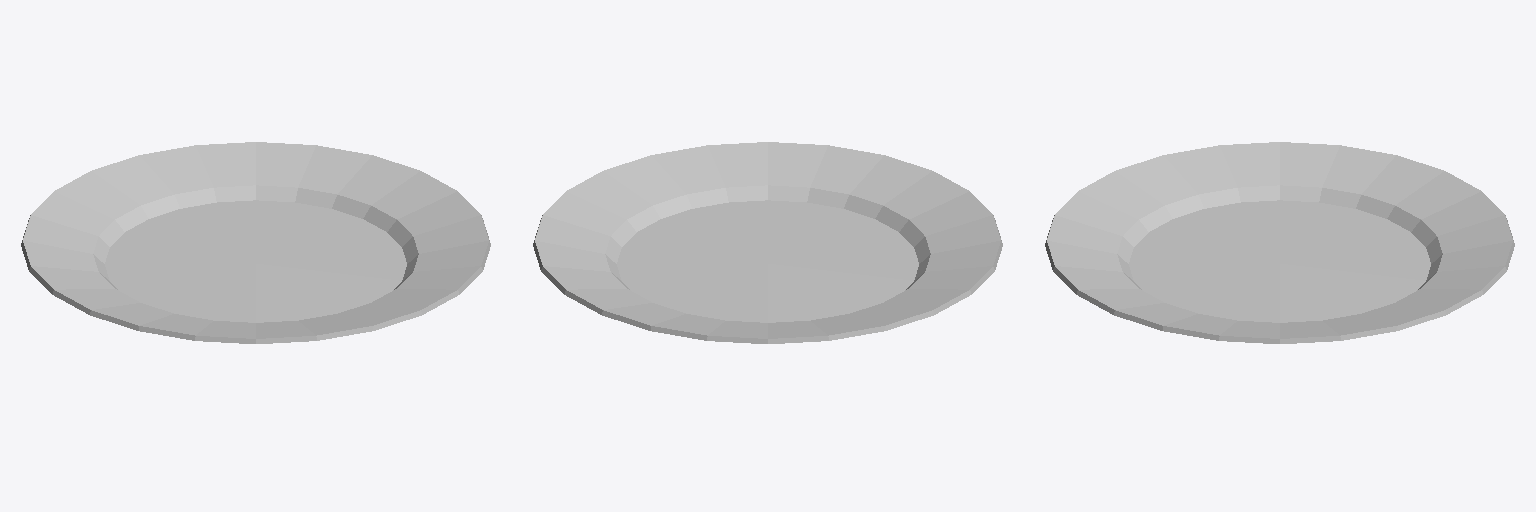
File: Plate3.obj
3 renders of one model, left to right at view 1: azimuth 30°, elevation 25°; view 2: azimuth 150°, elevation 25°; view 3: azimuth 270°, elevation 25°, orthographic.
Visible parts, largest first — view 1: Plate.001; view 2: Plate.001; view 3: Plate.001.
Part boxes in pixels (x1,y1,x2,y2): Plate.001: (21, 142, 490, 343); Plate.001: (533, 142, 1002, 343); Plate.001: (1045, 142, 1514, 343).
Size of the model in its own units: 1.5 by 0.1094 by 1.5.